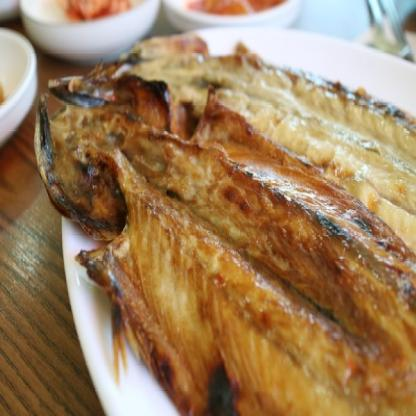Peixe: (40, 23, 415, 416)
